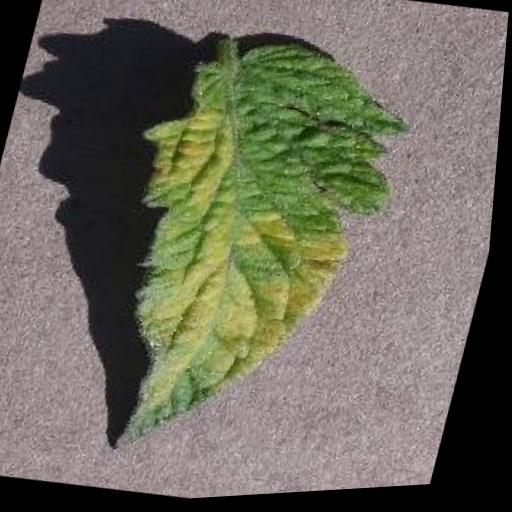Leaf Mold: (68, 15, 432, 491)
